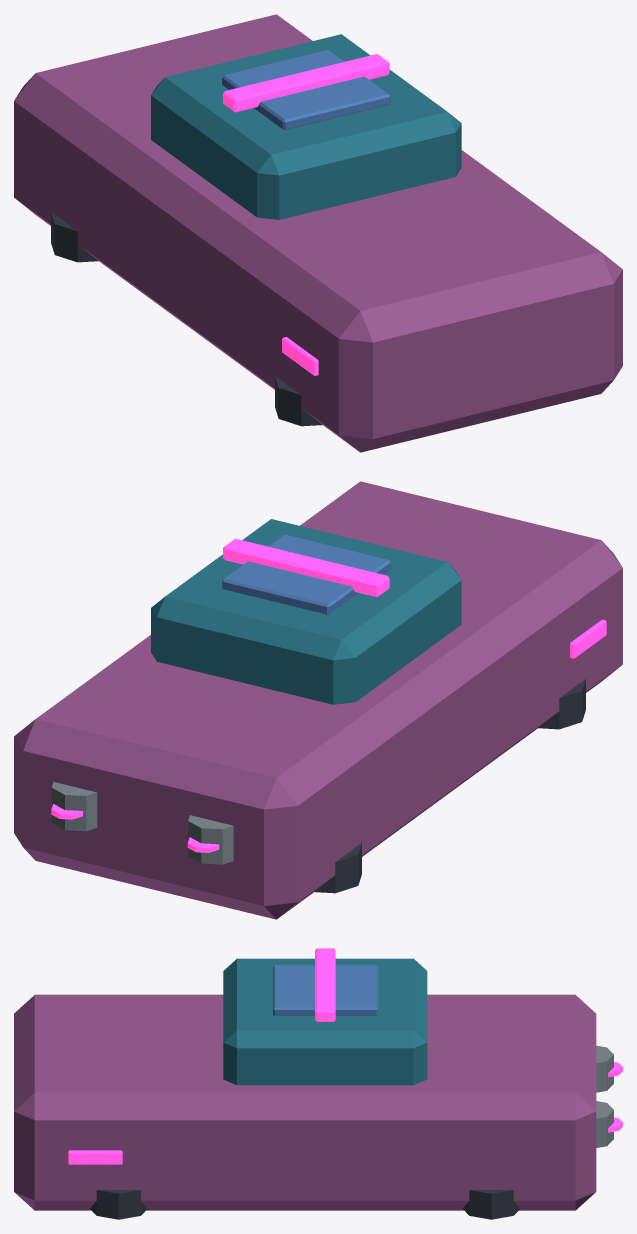
The model's file is vehicles_014_seed11.glb.
3 renders of one model, top to bottom at view 1: azimuth 30°, elevation 25°; view 2: azimuth 150°, elevation 25°; view 3: azimuth 270°, elevation 25°, orthographic. The views are drawn at different scales.
Visible parts, largest first — view 1: vehicles_014_seed11; view 2: vehicles_014_seed11; view 3: vehicles_014_seed11.
Part boxes in pixels (x1=…): vehicles_014_seed11: x1=14, y1=14, x2=622, y2=452; vehicles_014_seed11: x1=14, y1=481, x2=622, y2=919; vehicles_014_seed11: x1=14, y1=948, x2=622, y2=1219.
Size of the model in its own units: 2.25 by 1.55 by 4.69.
